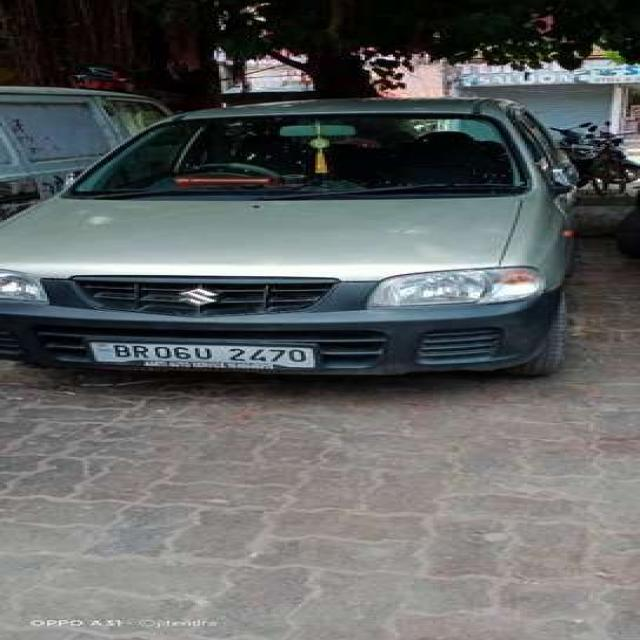licenseplate: (82, 338, 320, 372)
